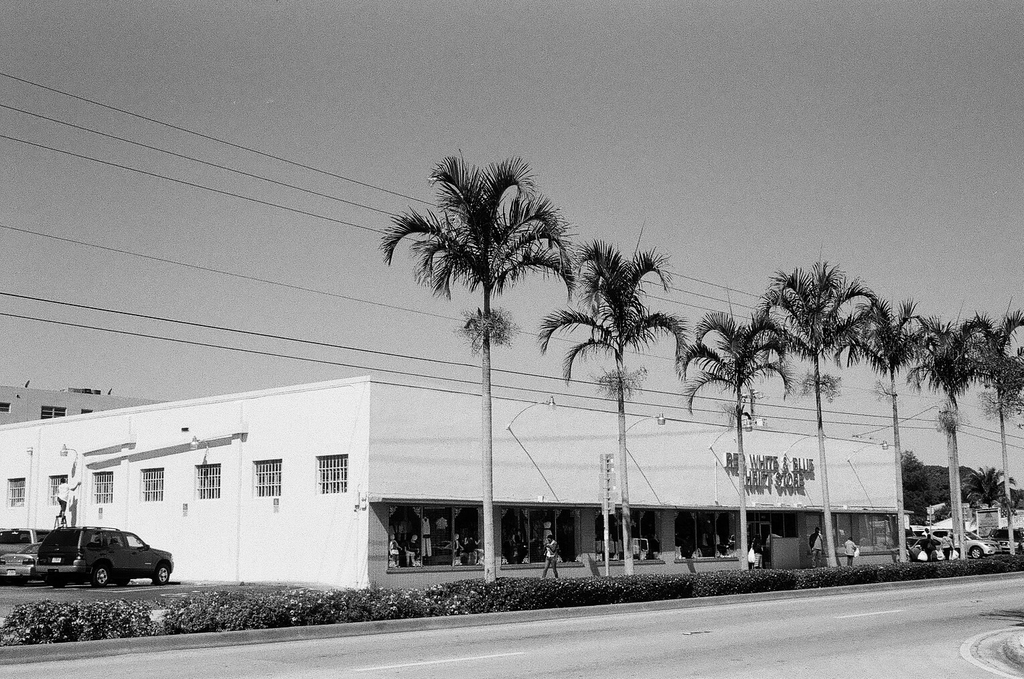Car: (20, 533, 183, 595), (908, 528, 1002, 558), (0, 525, 48, 576)
